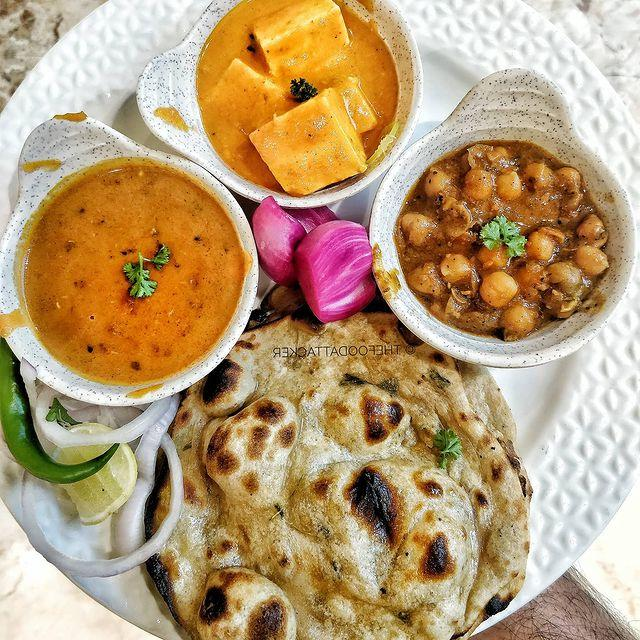Chole: (413, 144, 608, 339)
